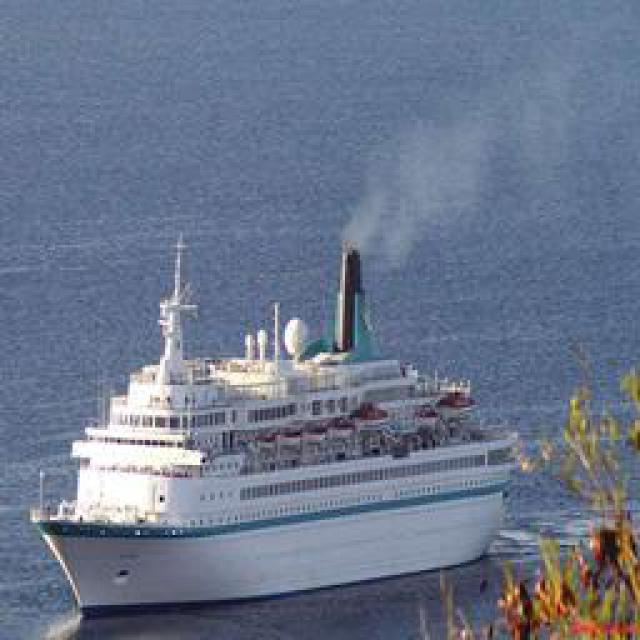Ship: (27, 202, 515, 612)
